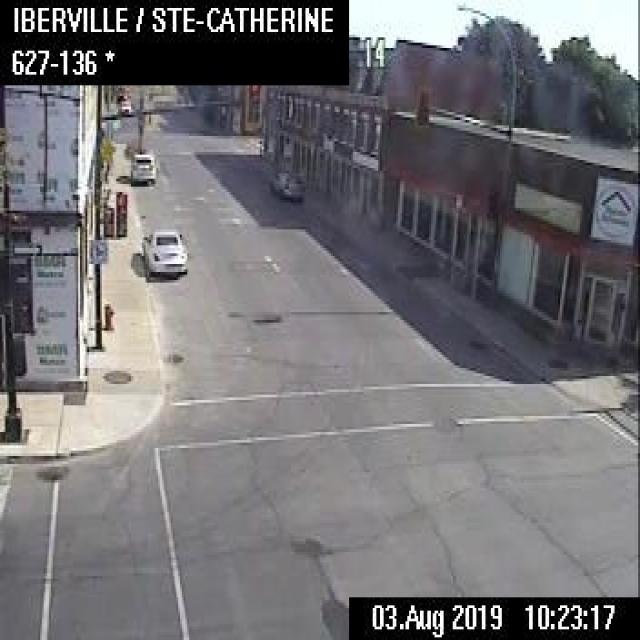vehicle: (141, 227, 186, 276), (269, 168, 305, 199), (129, 150, 156, 183), (119, 98, 130, 111)
